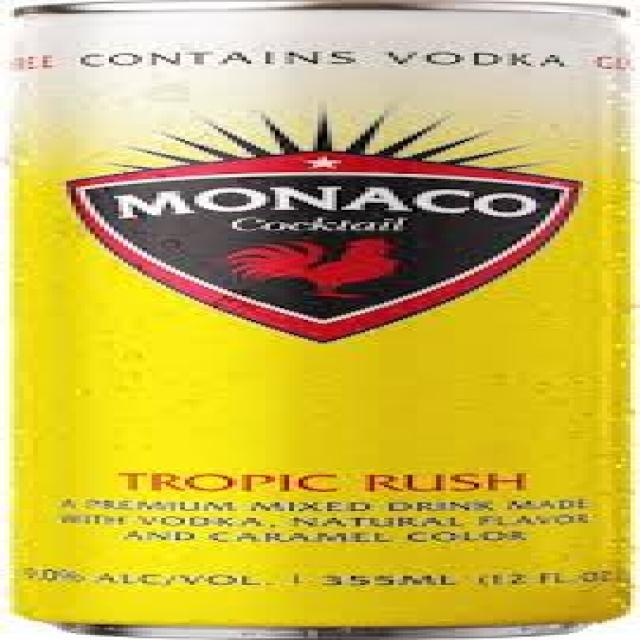Cans: (4, 2, 640, 635)
